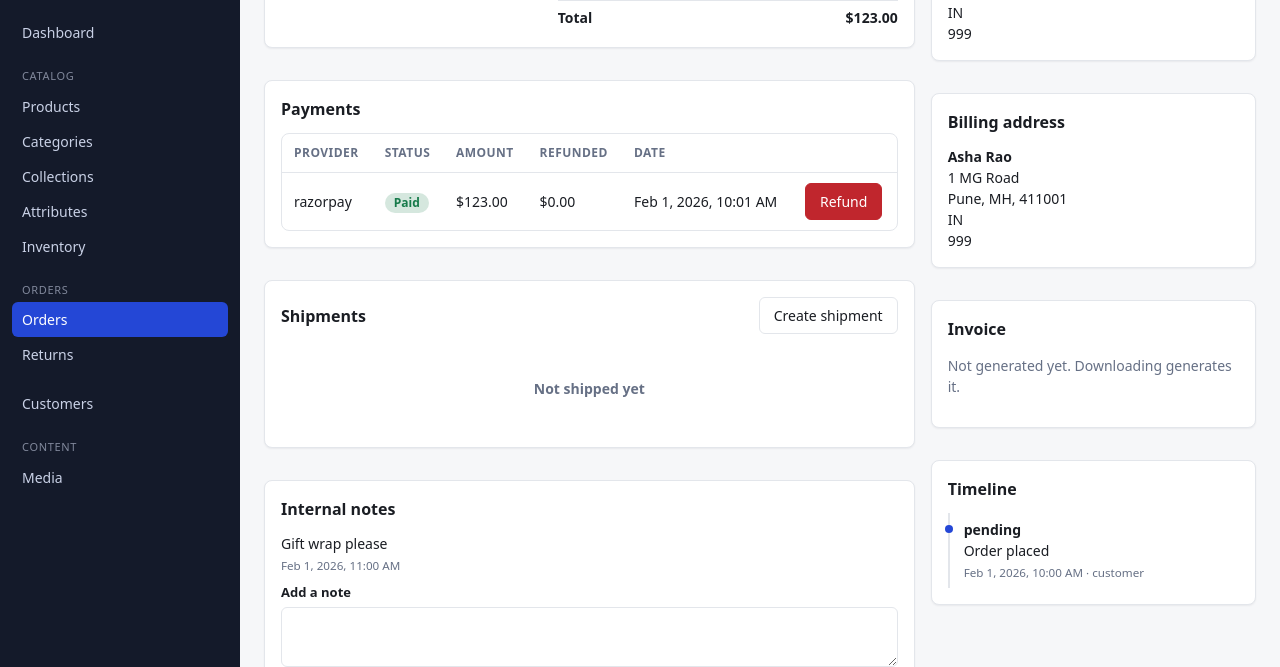
Test case: order detail › creates a manual shipment and tolerates a missing endpoint
The image size is (1280, 667).
(page scrolled)
Step 1. Click the button "Create shipment" → (828, 316), box [759, 297, 898, 334]
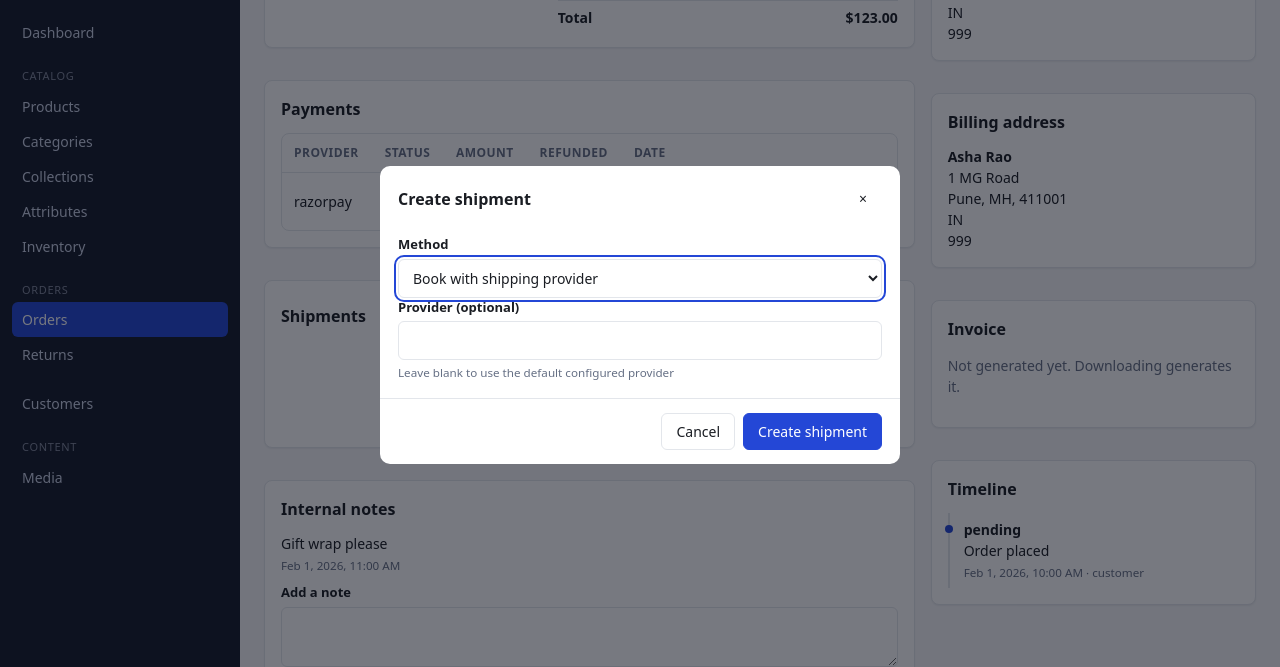
Step 2. Select "Enter AWB manually" in the dropdown labelled "Method" → (640, 278), box [398, 259, 882, 298]
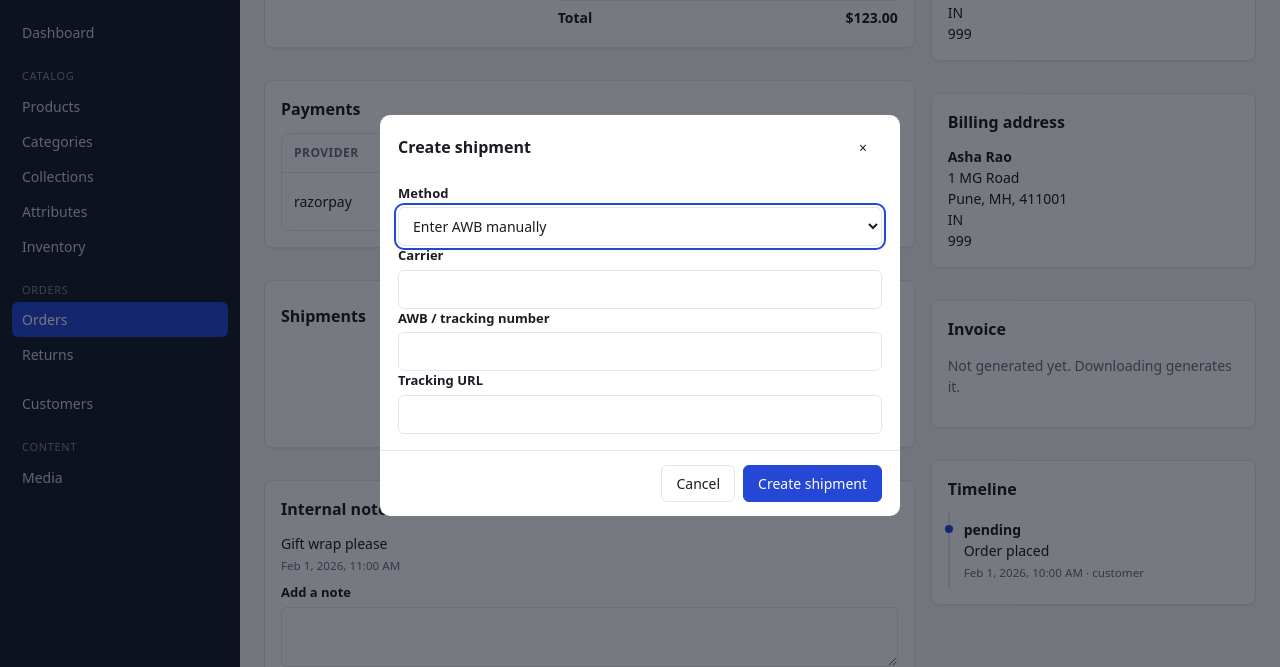
Step 3. Click the button "Create shipment" → (812, 483), box [743, 464, 882, 502]
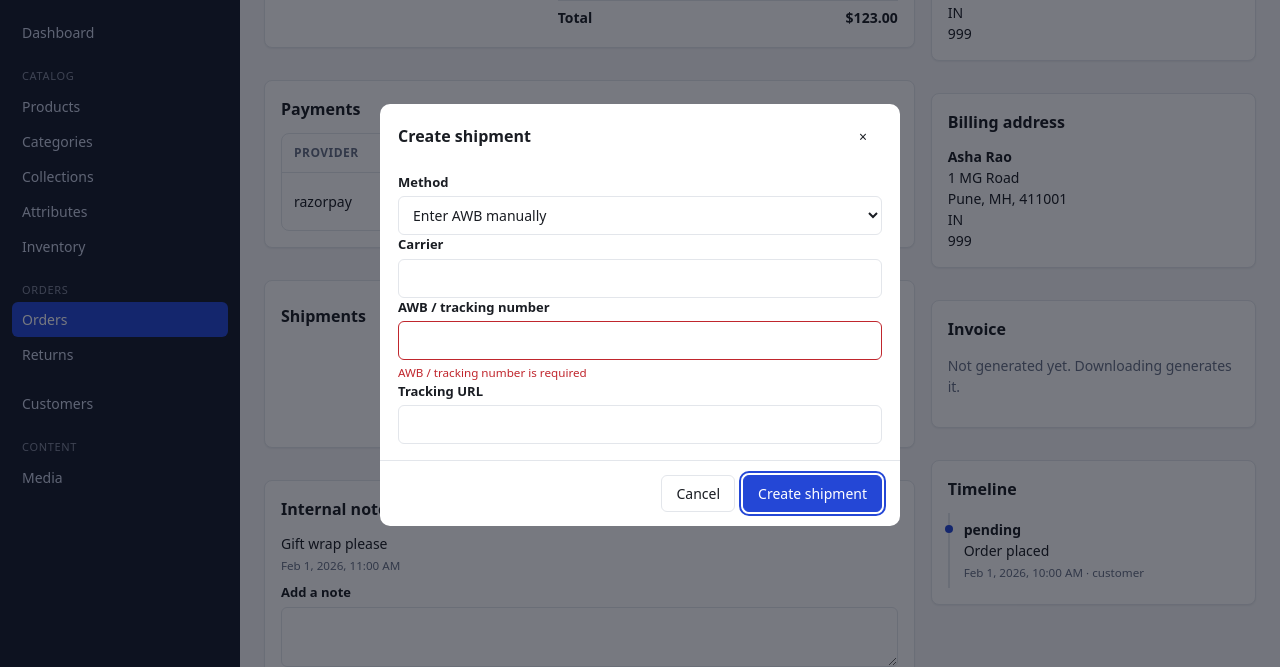
expect the text "AWB / tracking number is required" is shown: met, box [398, 365, 587, 380]
Step 4. Type "AWB123" into the field labelled "AWB / tracking number" → (640, 341), box [398, 321, 882, 360]
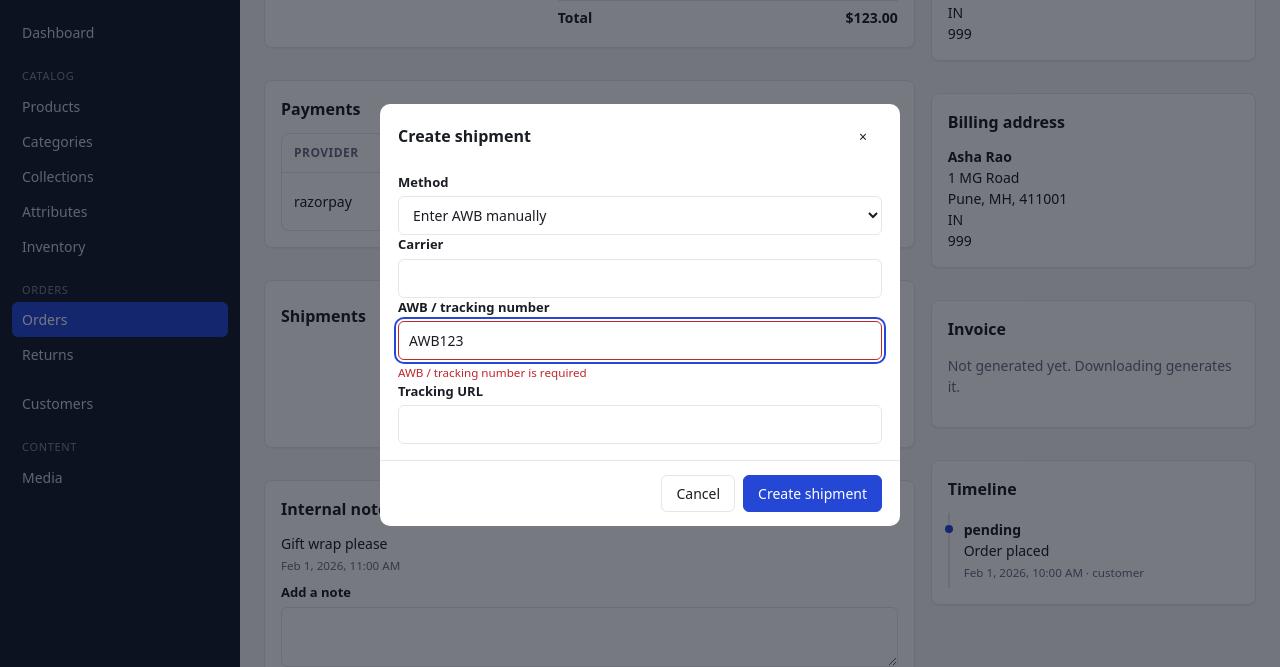
Step 5. Type "BlueDart" into the field labelled "Carrier" → (640, 278), box [398, 259, 882, 298]
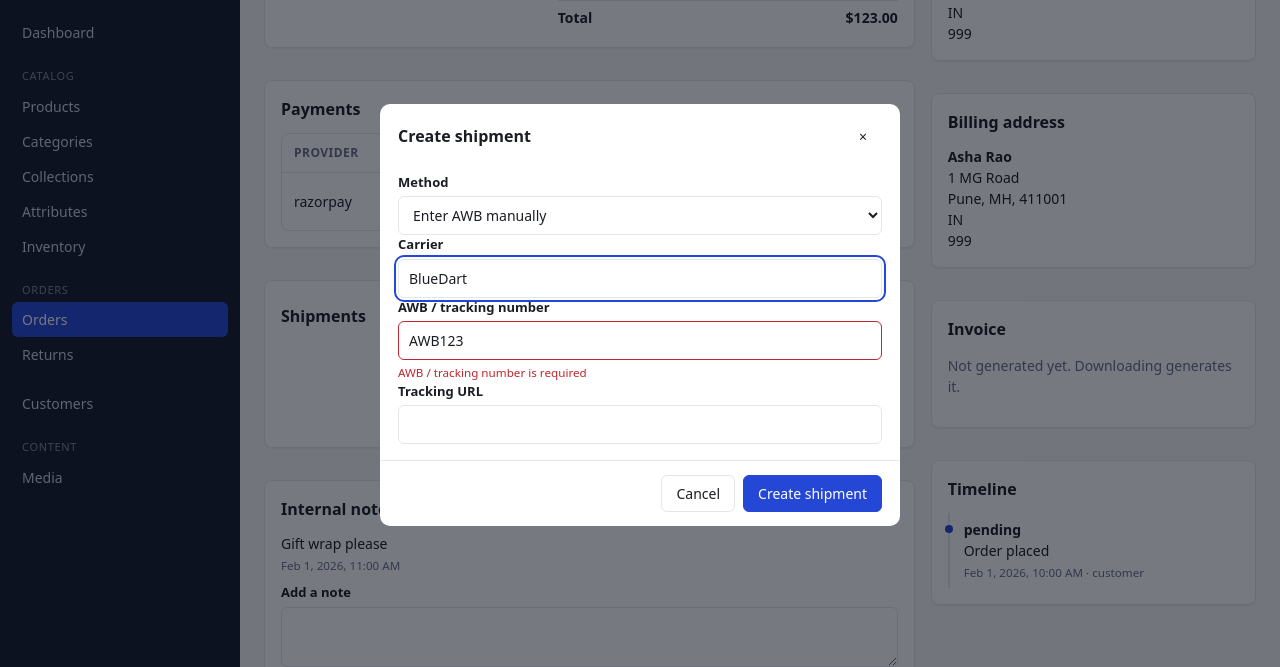
Step 6. Click the button "Create shipment" → (812, 494), box [743, 475, 882, 512]
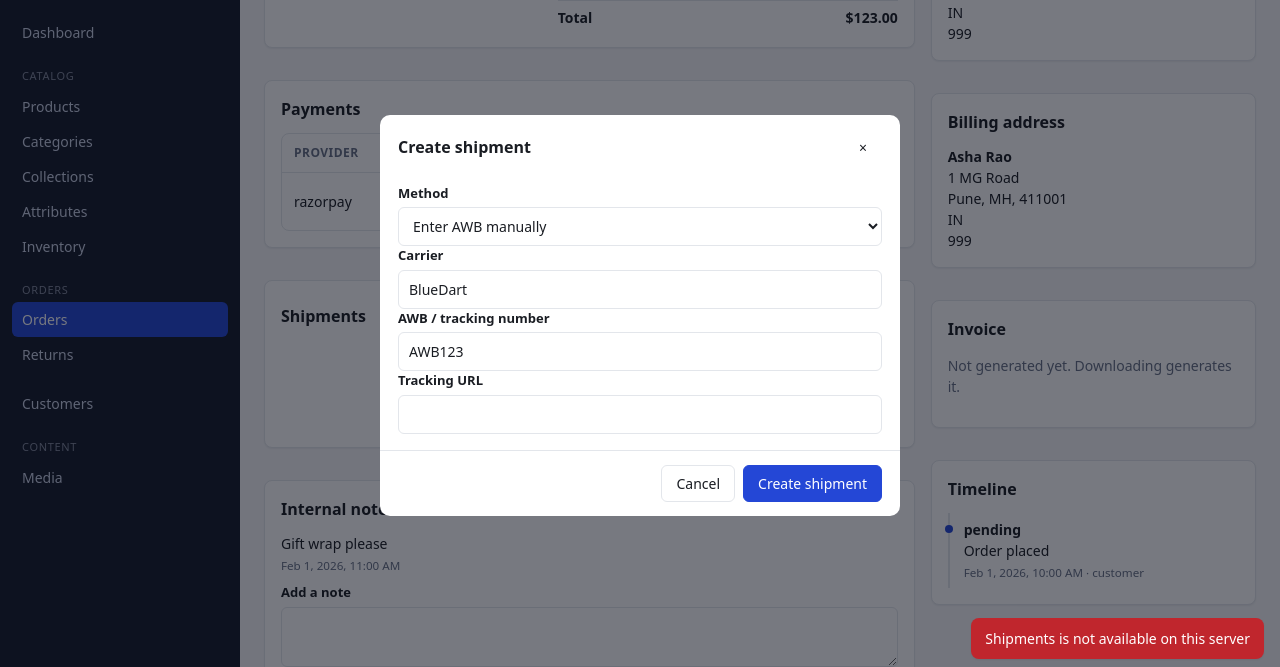
expect the text "Shipments is not available on this server" is shown: met, box [971, 618, 1264, 659]
